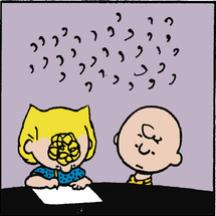charlie: (113, 103, 184, 186)
